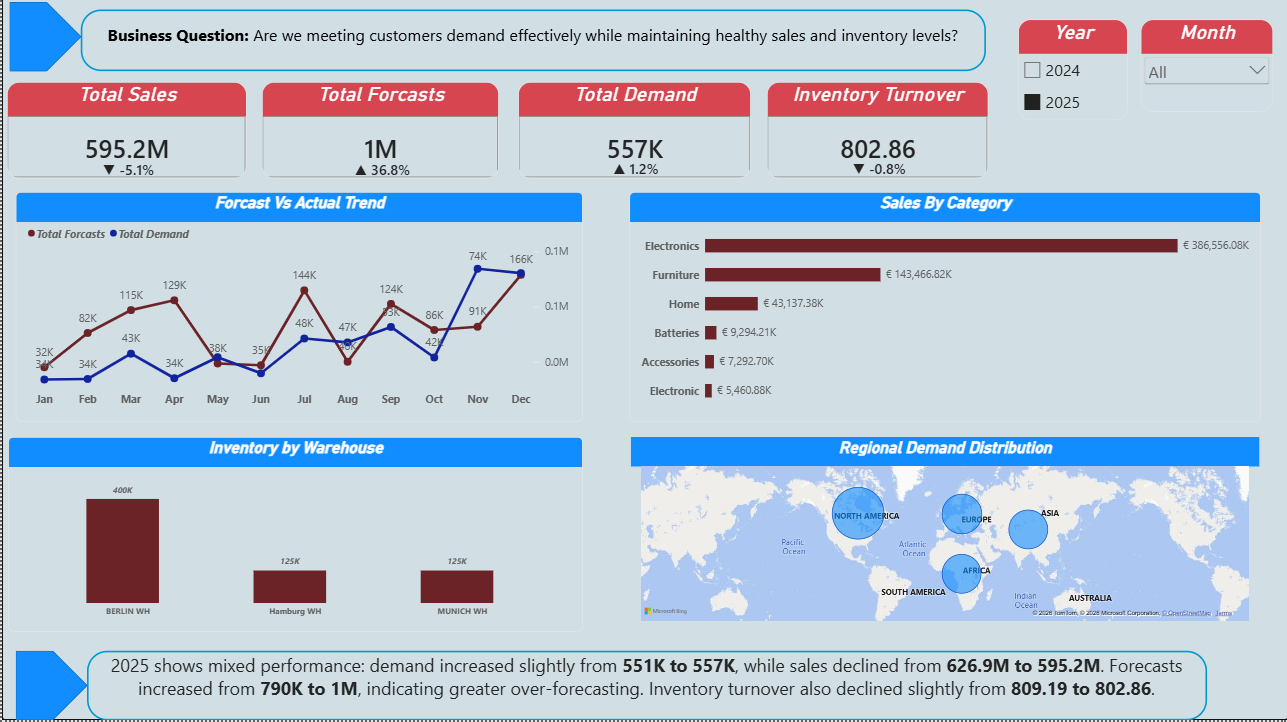

The dashboard page shown, as its layout file describes it:
{"tool":"powerbi","page":{"name":"Executive Dashboard","canvas":[1920,1080],"ordinal":0},"visuals":[{"type":"shape","box":[10.9,7.5,107.4,103.7],"z":0},{"type":"textbox","box":[118.4,18.8,1351.2,92.3],"z":1000},{"type":"cardVisual","title":"Total Sales","fields":{"Data":["All Measures.Total Sales"]},"box":[7.5,126.6,357.9,143.6],"z":2000},{"type":"cardVisual","fields":{"Data":["All Measures.Sales Trend"]},"box":[96.4,232.9,184.3,47.2],"z":3000},{"type":"slicer","title":"Year","fields":{"Values":["Date.Year"]},"box":[1517.5,34.3,163,150],"z":4000},{"type":"slicer","title":"Month","fields":{"Values":["Date.Month"]},"box":[1699.7,34.3,197.6,137.9],"z":5000},{"type":"cardVisual","title":"Total Forcasts","fields":{"Data":["All Measures.Total Forcasts"]},"box":[388.2,126.6,353.7,143.6],"z":6000},{"type":"cardVisual","fields":{"Data":["All Measures.Demand Trend"]},"box":[877.8,223.8,139.3,64.3],"z":7000},{"type":"cardVisual","fields":{"Data":["All Measures.Forcast Qty Trend"]},"box":[486.4,225.4,162.9,62.2],"z":8000},{"type":"cardVisual","title":"Total Demand","fields":{"Data":["All Measures.Total Demand"]},"box":[770.8,126.6,347.2,143.6],"z":9000},{"type":"cardVisual","title":"Inventory Turnover","fields":{"Data":["All Measures.Inventory Turnover"]},"box":[1142.1,126.6,330.1,143.6],"z":10000},{"type":"cardVisual","fields":{"Data":["All Measures.Inventory turnover Trend"]},"box":[1217.3,223.8,186.5,64.3],"z":11000},{"type":"lineChart","title":"Forcast Vs Actual Trend","fields":{"Category":["Date.Month"],"Y":["All Measures.Total Forcasts"],"Y2":["All Measures.Total Demand"]},"box":[20.7,291,846.2,343],"z":12000},{"type":"clusteredBarChart","title":"Sales By Category","fields":{"Category":["SupplyChain_Data.Category"],"Y":["All Measures.Total Sales"]},"box":[936.6,291,942.3,343],"z":13000},{"type":"clusteredColumnChart","title":"Inventory by Warehouse","fields":{"Category":["SupplyChain_Data.Warehouse"],"Y":["Sum(SupplyChain_Data.InventoryOnHand)"]},"box":[9.4,656.6,857.5,290.2],"z":14000},{"type":"map","title":"Regional Demand Distribution","fields":{"Category":["SupplyChain_Data.Region"],"Size":["All Measures.Total Demand"]},"box":[938.5,656.6,938.5,290.2],"z":15000},{"type":"shape","box":[20.7,976.2,107.4,103.7],"z":15001},{"type":"textbox","box":[126.3,976.2,1671.6,103.7],"z":15002}]}

Visuals, with their boxes in screenshot pixels (x1, y1, x2, y2), scaled from the page's 1920x1080 canvas onto the 1287x722 screenshot:
shape: detection(7, 5, 79, 74)
textbox: detection(79, 13, 985, 74)
"Total Sales" cardVisual: detection(5, 85, 245, 181)
cardVisual - All Measures.Sales Trend: detection(65, 156, 188, 187)
"Year" slicer: detection(1017, 23, 1126, 123)
"Month" slicer: detection(1139, 23, 1272, 115)
"Total Forcasts" cardVisual: detection(260, 85, 497, 181)
cardVisual - All Measures.Demand Trend: detection(588, 150, 682, 193)
cardVisual - All Measures.Forcast Qty Trend: detection(326, 151, 435, 192)
"Total Demand" cardVisual: detection(517, 85, 749, 181)
"Inventory Turnover" cardVisual: detection(766, 85, 987, 181)
cardVisual - All Measures.Inventory turnover Trend: detection(816, 150, 941, 193)
"Forcast Vs Actual Trend" lineChart: detection(14, 195, 581, 424)
"Sales By Category" clusteredBarChart: detection(628, 195, 1259, 424)
"Inventory by Warehouse" clusteredColumnChart: detection(6, 439, 581, 633)
"Regional Demand Distribution" map: detection(629, 439, 1258, 633)
shape: detection(14, 653, 86, 721)
textbox: detection(85, 653, 1205, 721)
